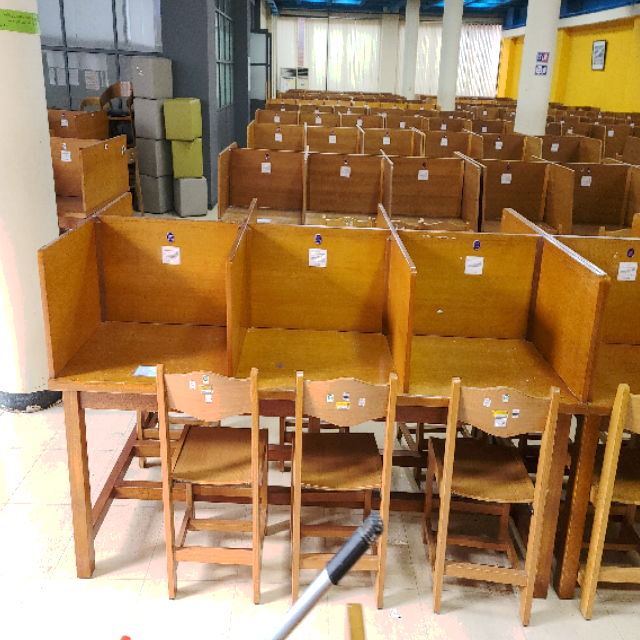empty: (417, 225, 601, 477), (46, 223, 231, 459), (234, 227, 410, 456)
